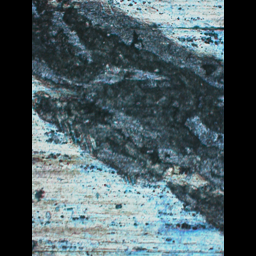d: (32, 0, 223, 243)
